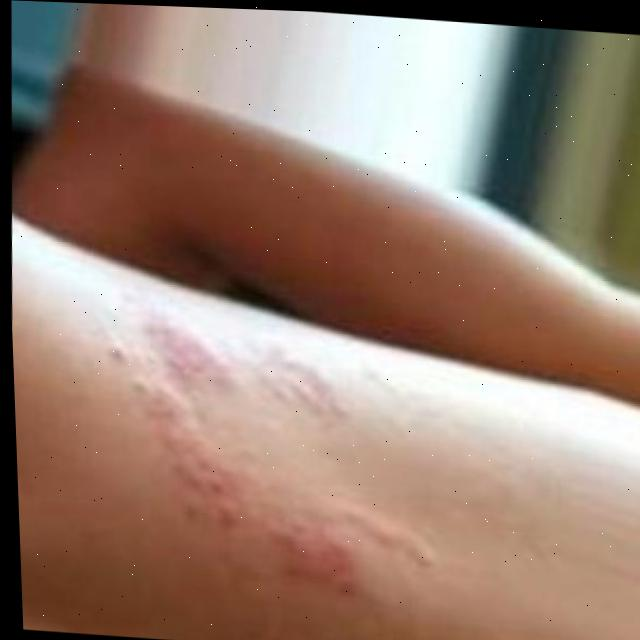Shingles: (129, 323, 350, 602)
